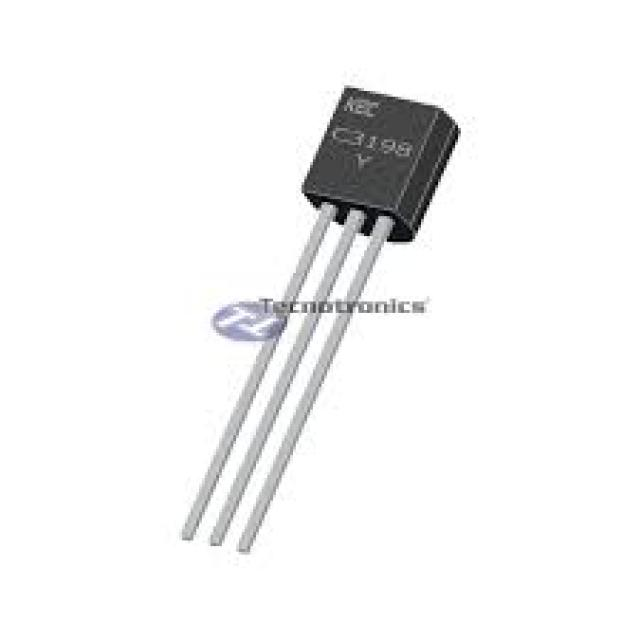Transistor: (186, 90, 468, 548)
